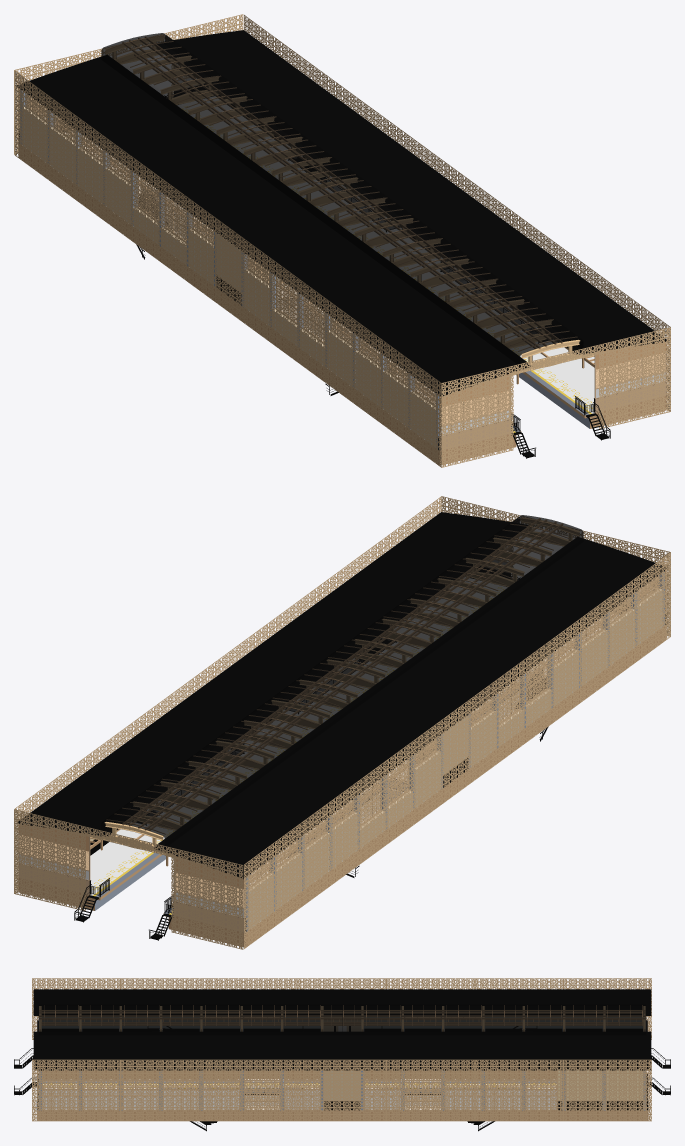
The model's file is Kasturchand_park_Station.fbx.
3 renders of one model, top to bottom at view 1: azimuth 30°, elevation 25°; view 2: azimuth 150°, elevation 25°; view 3: azimuth 270°, elevation 25°, orthographic. The views are drawn at different scales.
Visible parts, largest first — view 1: Kasturchand_park_Station; view 2: Kasturchand_park_Station; view 3: Kasturchand_park_Station.
Part boxes in pixels (x1,y1,x2,y2): Kasturchand_park_Station: (14, 14, 670, 467); Kasturchand_park_Station: (14, 496, 670, 949); Kasturchand_park_Station: (14, 978, 670, 1131).
Bounding box in the file's own units: 24.36 × 11.31 × 83.22.
